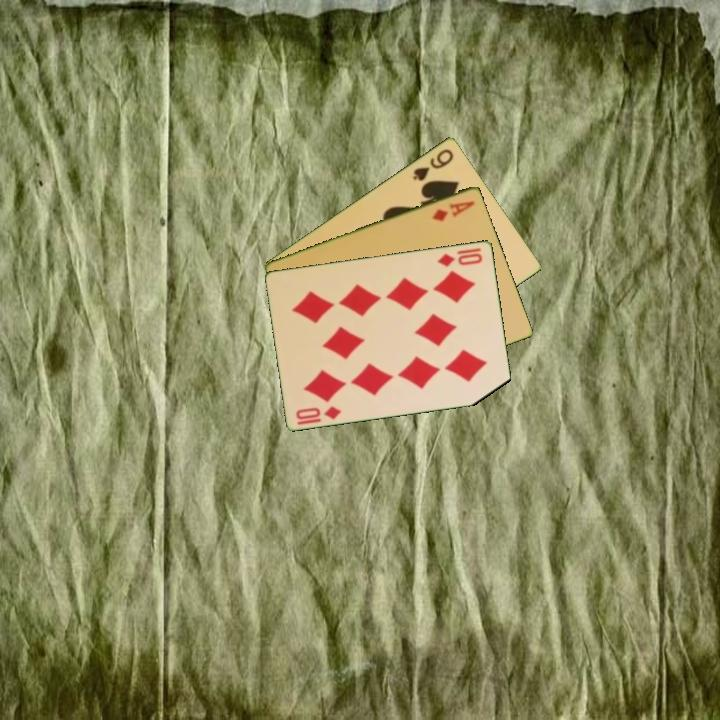10d: (434, 249, 486, 269), (293, 402, 344, 422)
9s: (409, 145, 457, 184)
Ad: (428, 197, 478, 224)
